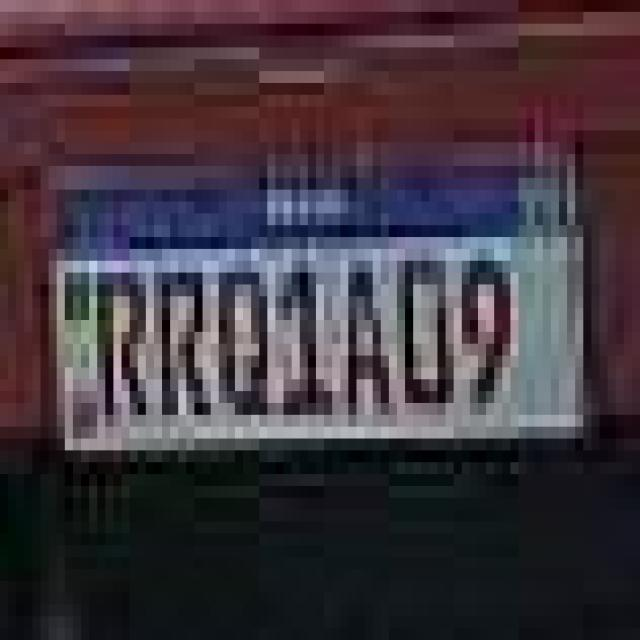0: (394, 249, 454, 414)
1: (282, 256, 330, 422)
9: (456, 249, 513, 409)
A: (341, 257, 391, 423)
Q: (217, 266, 270, 421)
R: (156, 262, 212, 420), (96, 265, 151, 422)
